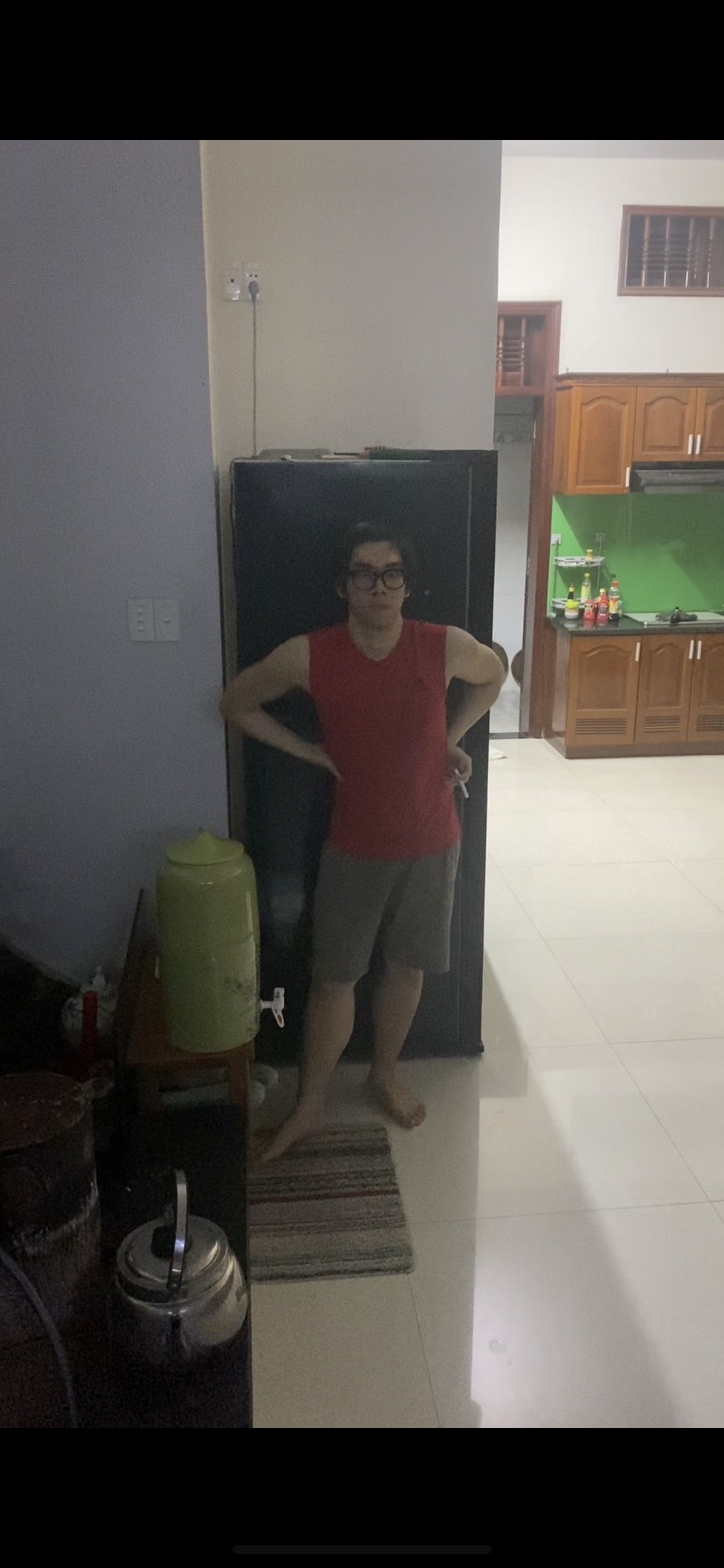cigarette: (456, 780, 471, 802)
person: (269, 517, 505, 1166)
